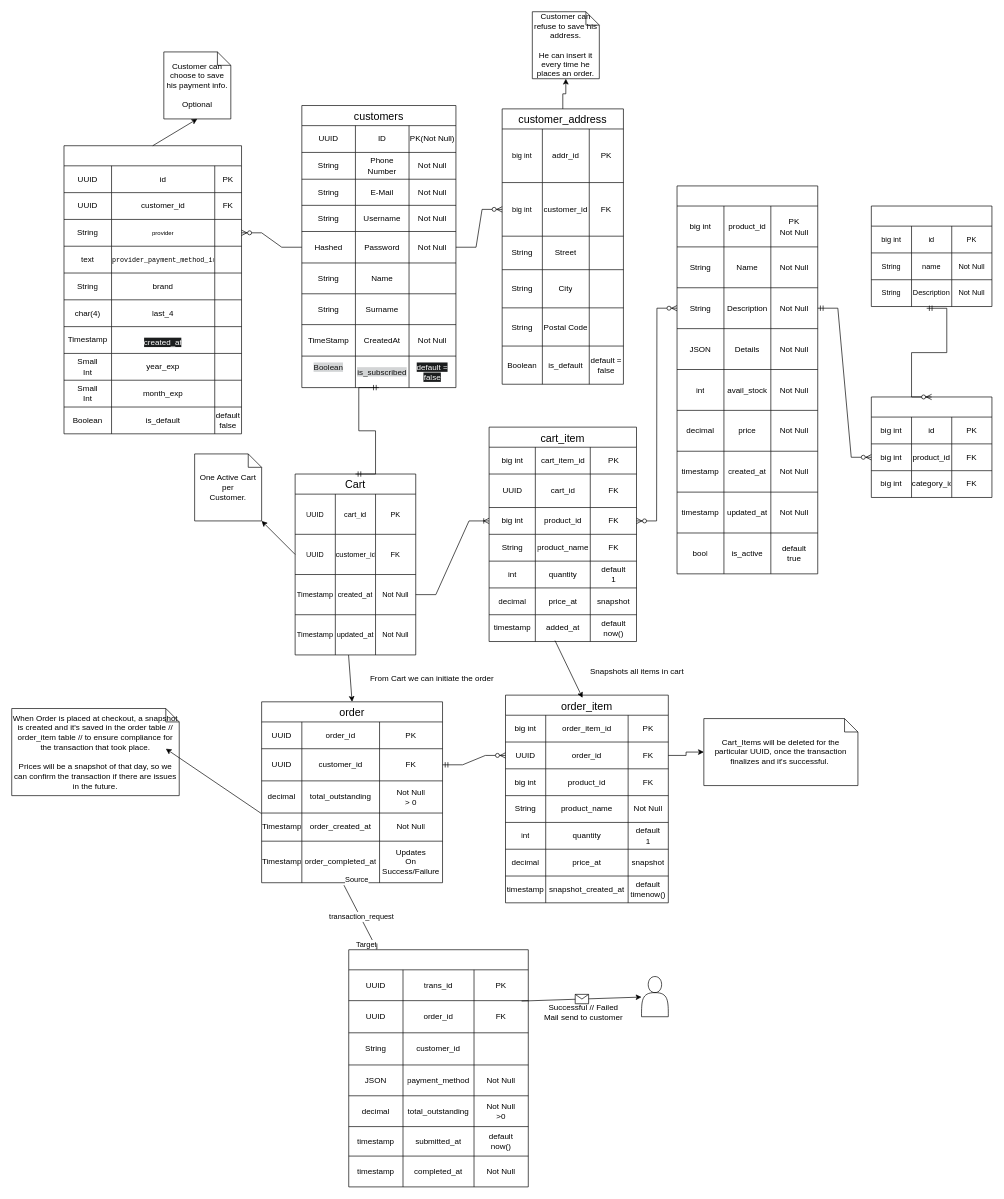
This 1004x1199 diagram has some shape labels left out. Here are the shapes that lost their labels. From the top down, the box of each, then its label:
(871, 205, 992, 307): category
(63, 145, 242, 434): customer_payment_methods
(676, 185, 818, 574): Products
(871, 396, 992, 497): product_category
(348, 949, 528, 1187): transactions
